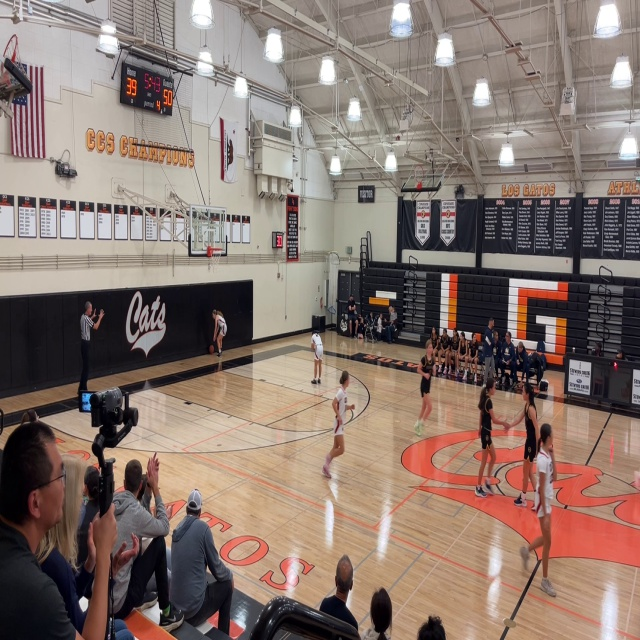Basketball: (209, 345, 214, 354)
